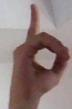D1: (1, 1, 72, 101)
